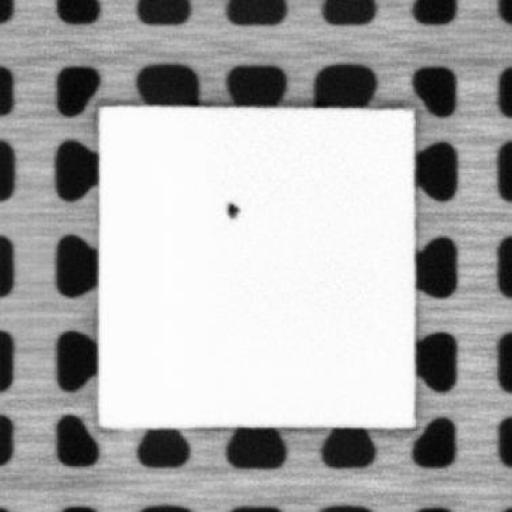DIE_INK: (223, 198, 240, 219)
